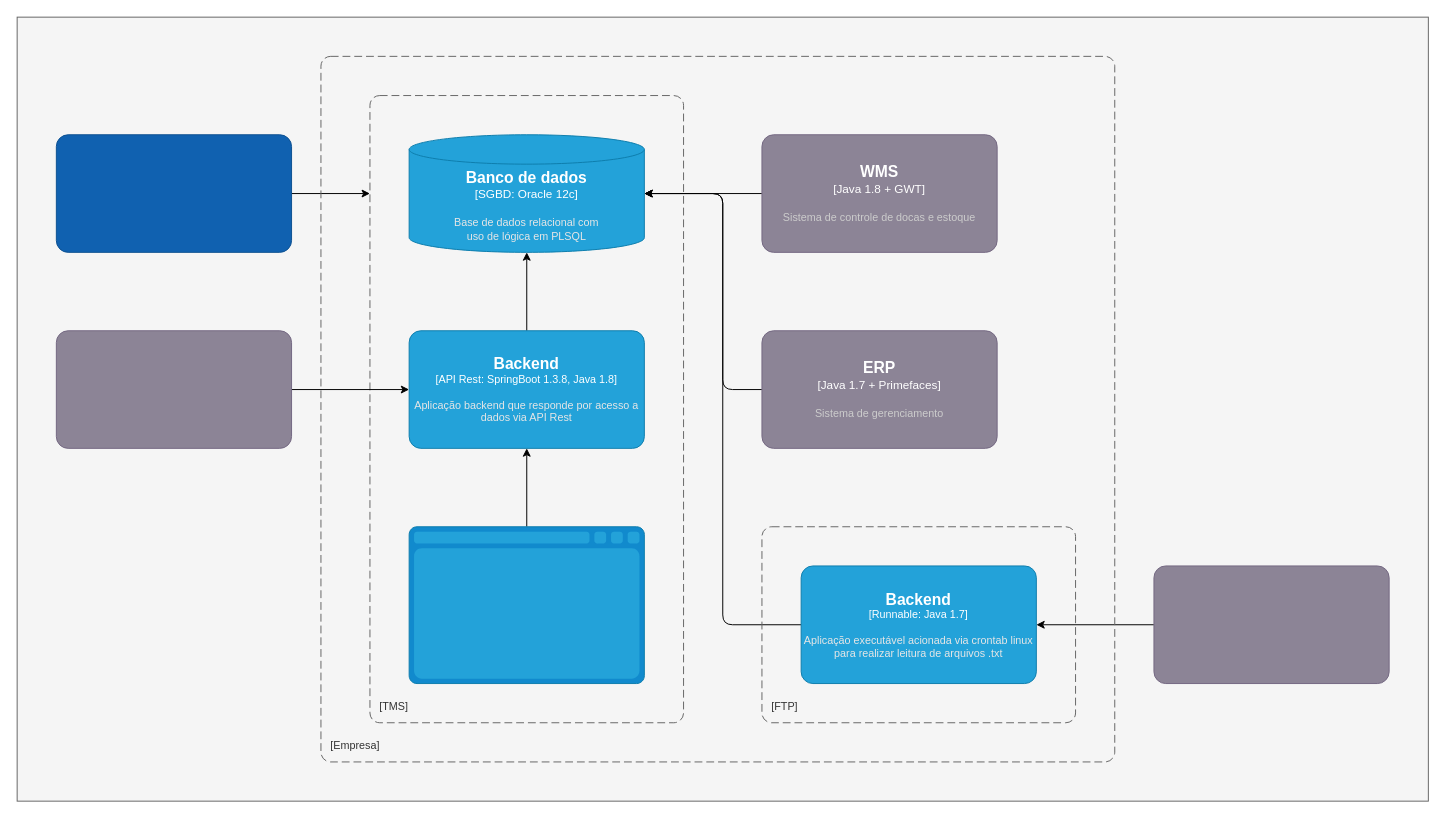
Some shapes in this 1446 by 818 pixel diagram are drawn without their labels. The centre of each missing label's shape, as x and y in pixels:
"Frontend [SPA: Angular JS 4.2] Telas da aplicação" belongs at point (526, 605).
"Loja [E-commerce] Catálogo e venda de produtos" belongs at point (173, 389).
"TMS [Sistema] Gerenciamento de transporte e carregamento" belongs at point (173, 193).
"Transportadora [Sistema] Aplicação da transportadora" belongs at point (1271, 624).
